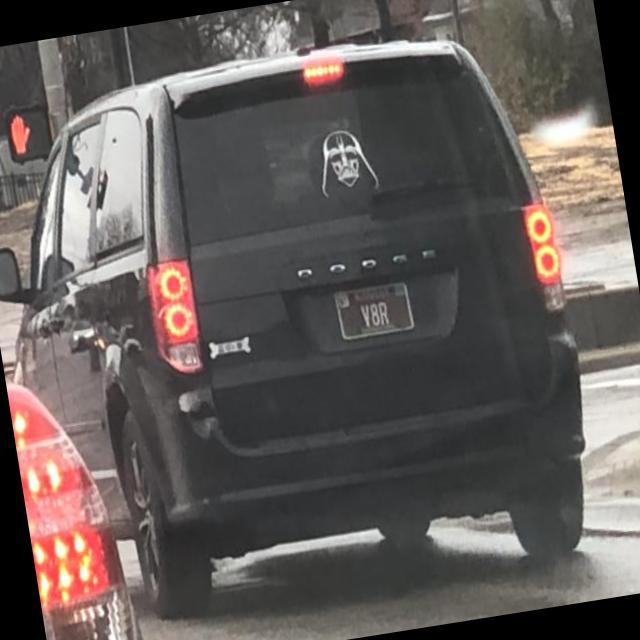LicensePlate: (333, 280, 415, 341)
